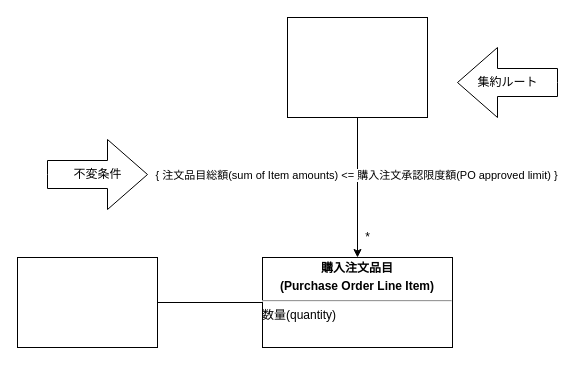
The diagram is 575 pixels wide and 365 high, and some of its shapes have lost their labels. Each missing label, with the centre of its shape:
"商品 (Part) 価格(price)" goes at pixel 87 302.
"購入注文 (Purchase Order) 承認限度額 (approved limit)" goes at pixel 357 67.
